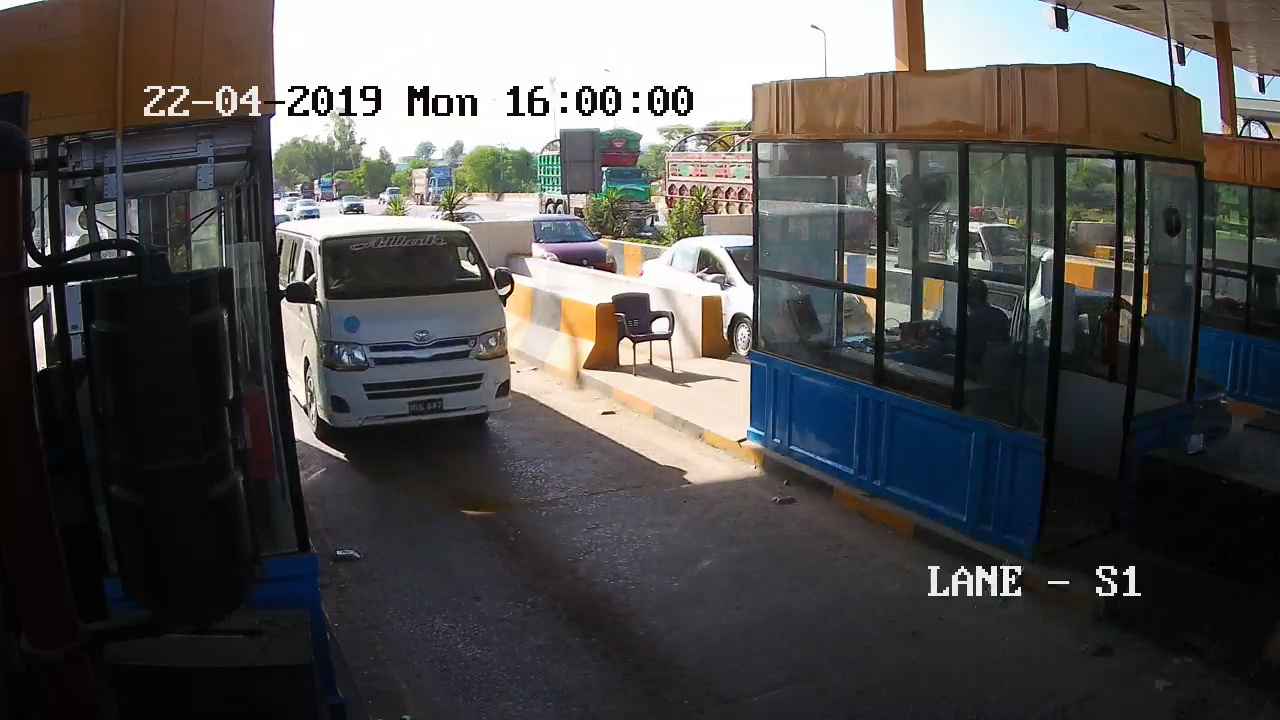car: (282, 215, 516, 437)
